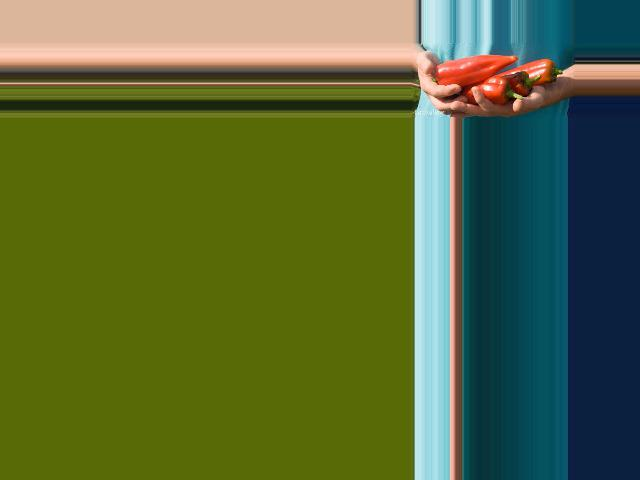bell_pepper: (510, 59, 563, 87)
